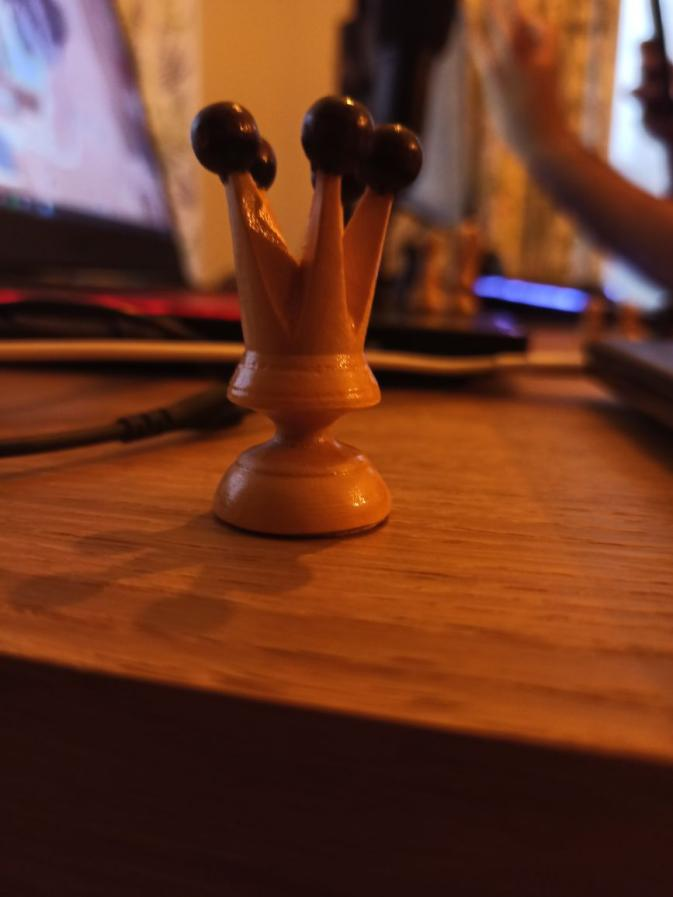wqueen: (185, 96, 425, 540)
